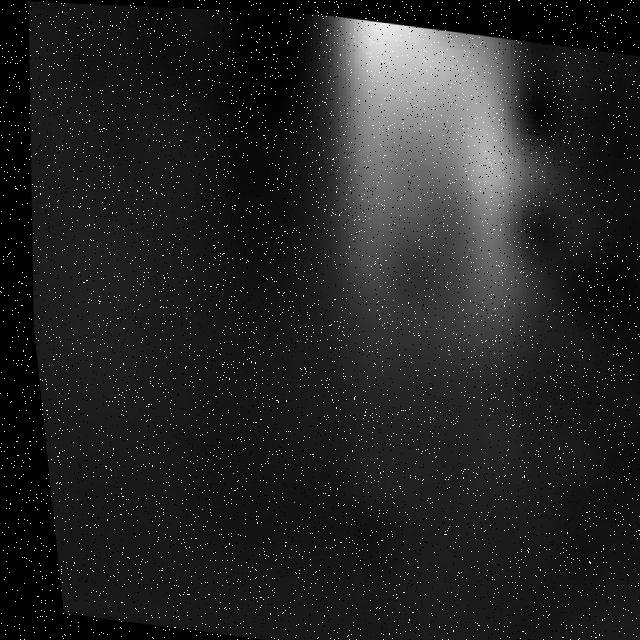person: (279, 11, 573, 417)
